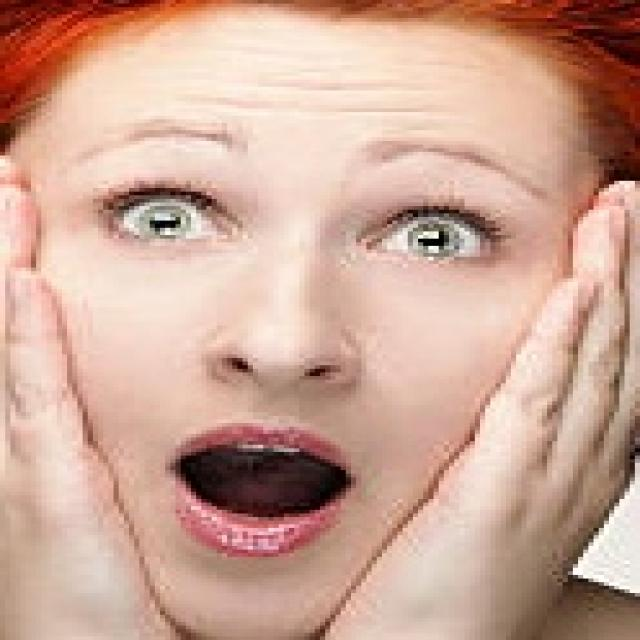Anxiety: (9, 8, 595, 636)
